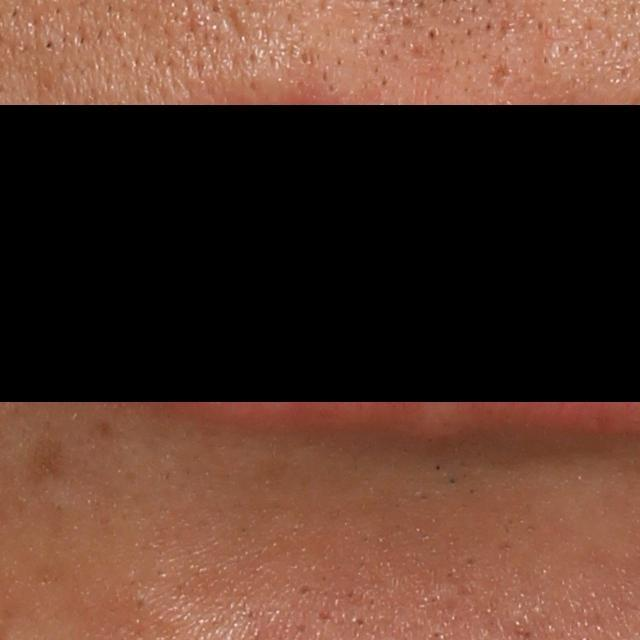atrophic_scar: (225, 3, 253, 44), (485, 62, 514, 94)
